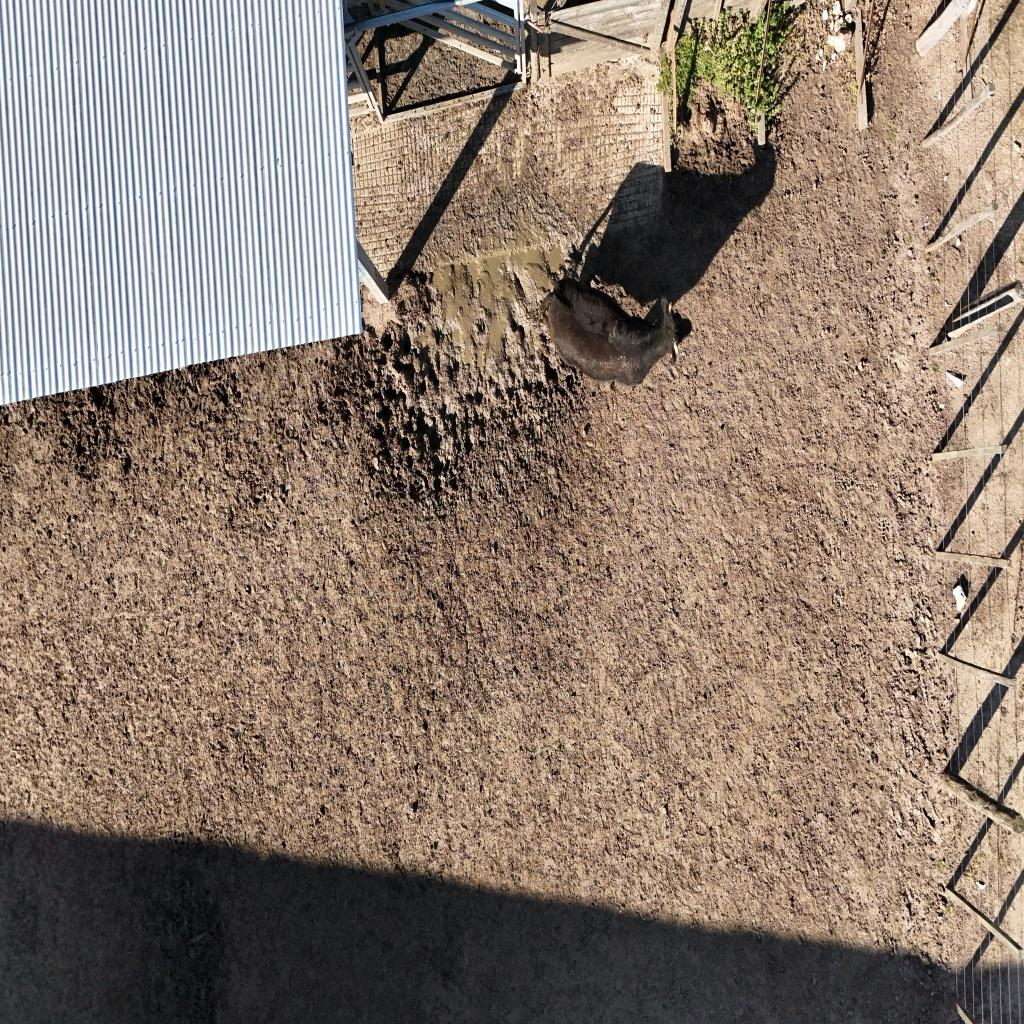cow: (538, 272, 688, 386)
